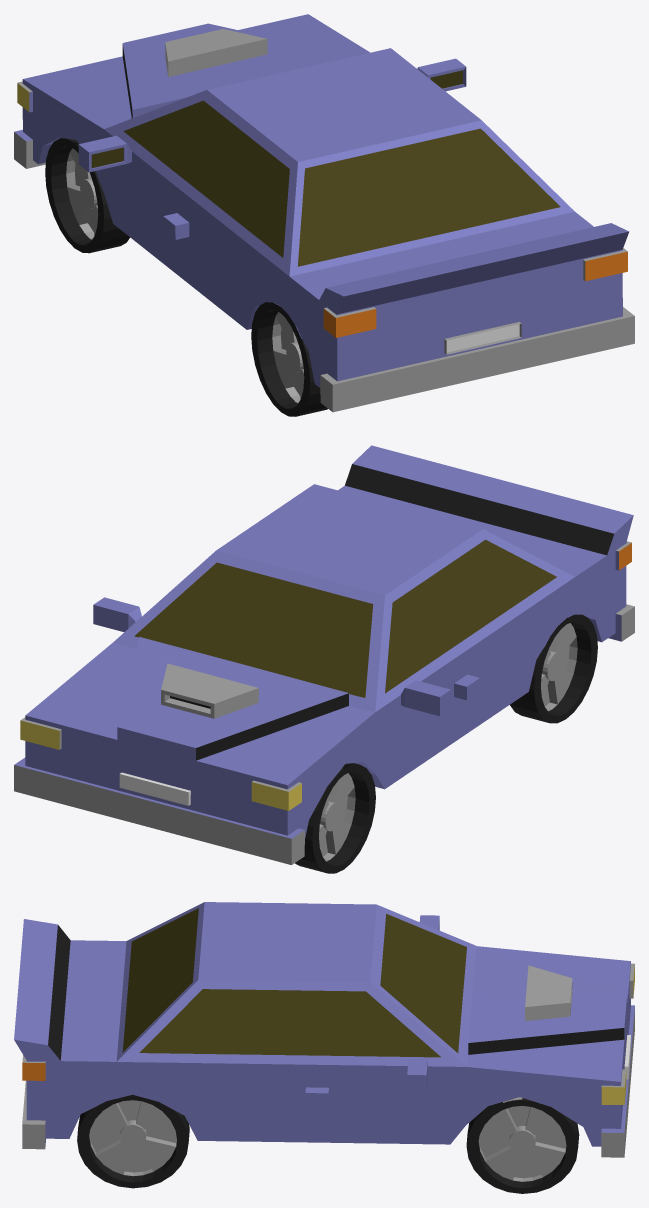
File: Car2.fbx
3 renders of one model, top to bottom at view 1: azimuth 30°, elevation 25°; view 2: azimuth 150°, elevation 25°; view 3: azimuth 270°, elevation 25°, orthographic. The views are drawn at different scales.
Parts seen in each view (by area): view 1: Car2; view 2: Car2; view 3: Car2.
Boxes of the visible parts, x1=… form: Car2: x1=14, y1=14, x2=634, y2=416; Car2: x1=14, y1=445, x2=634, y2=873; Car2: x1=14, y1=902, x2=634, y2=1193.
Bounding box in the file's own units: 261 × 160 × 87.63.
